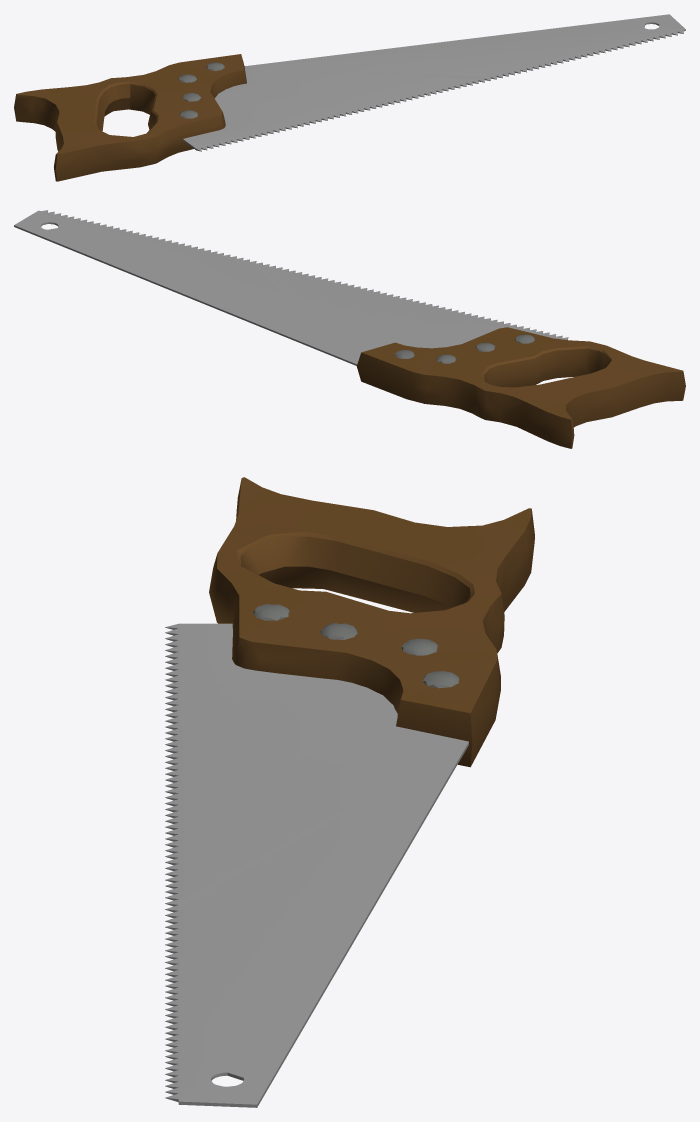
File: Saw_2.fbx
The picture shows the model from 3 angles, top to bottom: view 1: azimuth 30°, elevation 25°; view 2: azimuth 150°, elevation 25°; view 3: azimuth 270°, elevation 25°; orthographic projection. The views are drawn at different scales.
Parts seen in each view (by area): view 1: Saw_2; view 2: Saw_2; view 3: Saw_2.
Boxes of the visible parts, x1=… form: Saw_2: x1=14, y1=14, x2=685, y2=181; Saw_2: x1=14, y1=210, x2=685, y2=448; Saw_2: x1=165, y1=477, x2=534, y2=1107.
Size of the model in its own units: 122 by 6.21 by 31.63.
